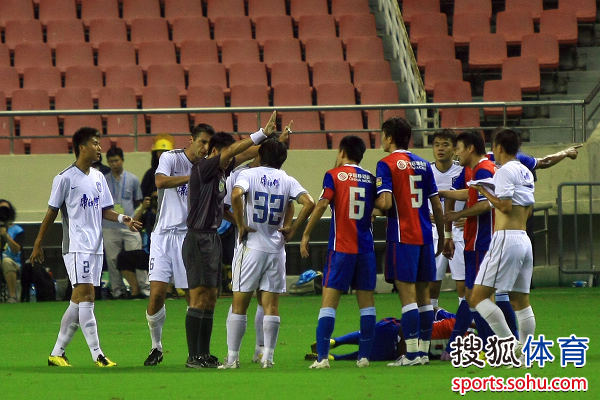10+: (1, 111, 600, 400)
down: (328, 294, 530, 370)
